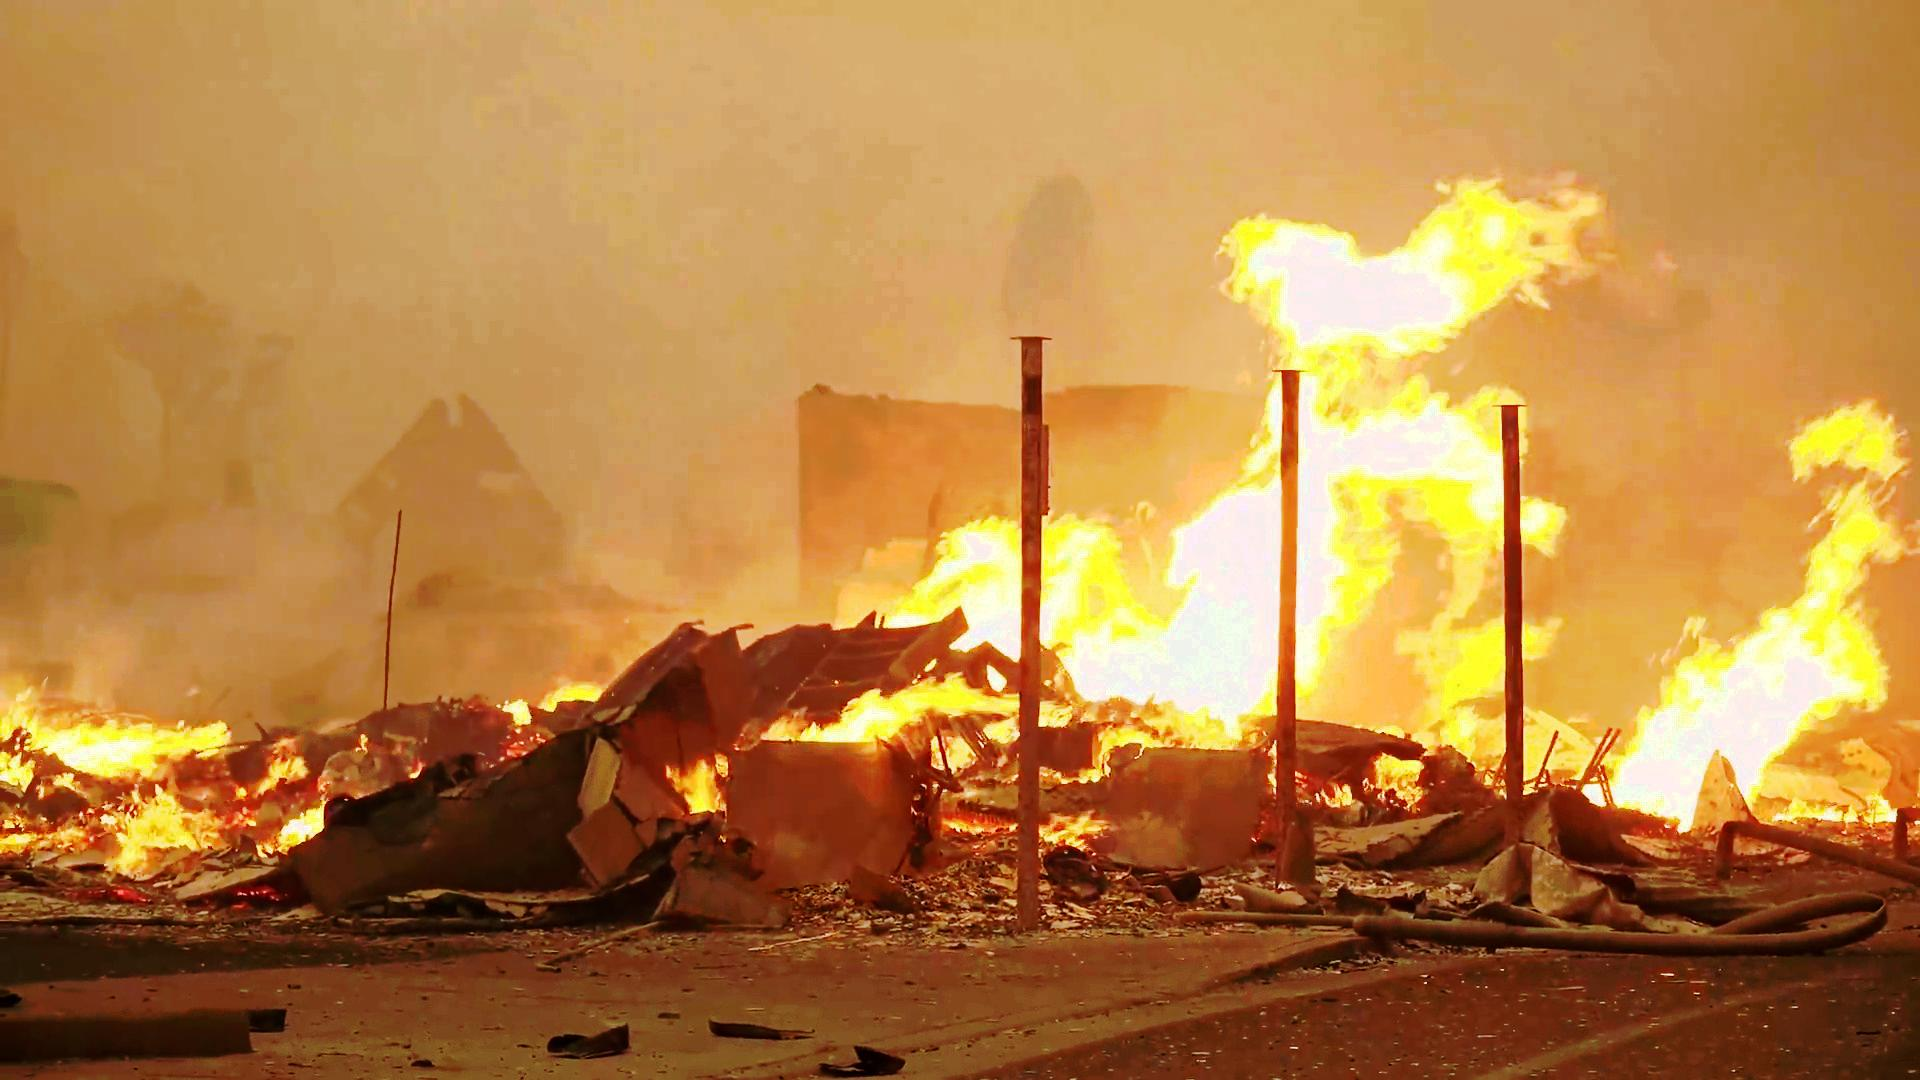fire: (1121, 158, 1638, 744), (1623, 407, 1920, 832), (926, 501, 1182, 746), (0, 669, 215, 836)
